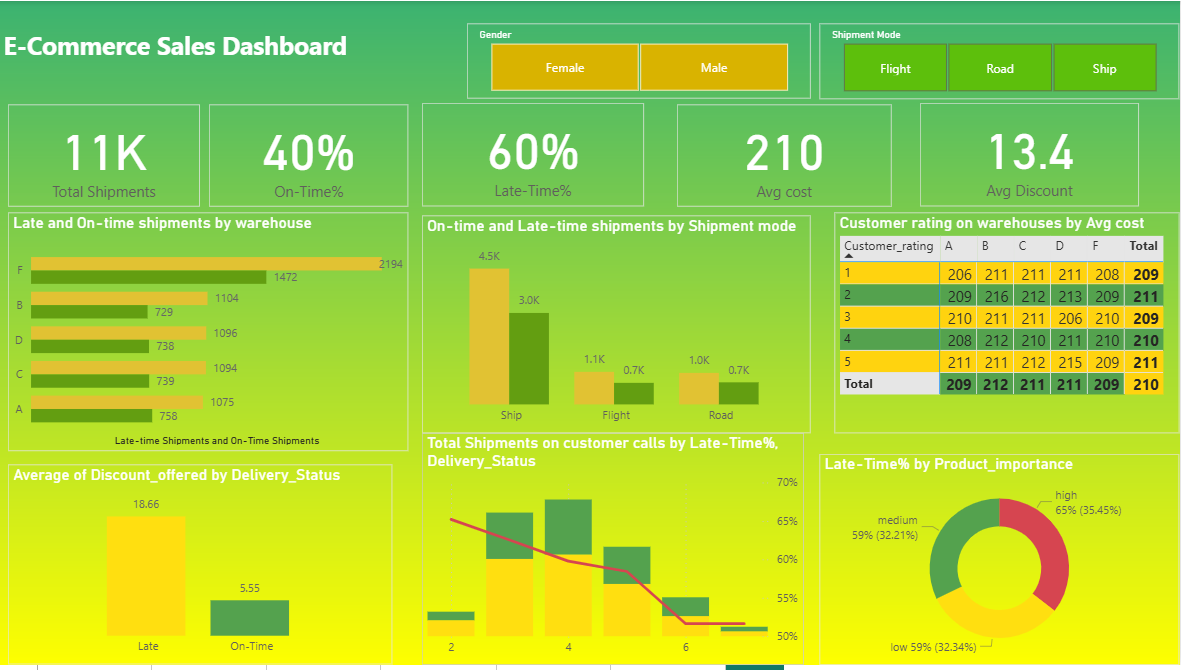

The dashboard page shown, as its layout file describes it:
{"tool":"powerbi","page":{"name":"Page 4","canvas":[1280,720],"ordinal":3},"visuals":[{"type":"card","fields":{"Values":["Train.Total Shipments"]},"box":[9.8,112.2,208.2,110.6],"z":0},{"type":"card","fields":{"Values":["Train.On-Time%"]},"box":[227.7,112.2,216.3,110.6],"z":1000},{"type":"card","fields":{"Values":["Train.Late-Time%"]},"box":[458.7,110.6,240.7,112.2],"z":2000},{"type":"card","fields":{"Values":["Train.Avg cost"]},"box":[735.2,112.2,232.6,110.6],"z":3000},{"type":"card","fields":{"Values":["Train.Avg Discount"]},"box":[998.7,110.6,237.5,112.2],"z":4000},{"type":"clusteredBarChart","title":"Late and On-time shipments by warehouse","fields":{"Category":["Train.Warehouse_block"],"Y":["Train.Late-time Shipments","Train.On-Time Shipments"]},"box":[9.8,229.3,434.3,258.6],"z":5000},{"type":"donutChart","fields":{"Category":["Train.Product_importance"],"Y":["Train.Late-Time%"]},"box":[890,491.7,390,228.3],"z":6000},{"type":"clusteredColumnChart","fields":{"Category":["Train.Delivery_Status"],"Y":["Avg(Train.Discount_offered)"]},"box":[10,503.3,416.7,216.7],"z":7000},{"type":"lineStackedColumnComboChart","title":"Total Shipments on customer calls by Late-Time%, Delivery_Status","fields":{"Category":["Train.Customer_care_calls"],"Y":["Train.Total Shipments"],"Series":["Train.Delivery_Status"],"Y2":["Train.Late-Time%"]},"box":[459.2,468.7,413.9,251.3],"z":8000},{"type":"pivotTable","title":"Customer rating on warehouses by Avg cost","fields":{"Columns":["Train.Warehouse_block"],"Rows":["Train.Customer_rating"],"Values":["Train.Avg cost"]},"box":[906,229.3,374.1,239.1],"z":9000},{"type":"slicer","fields":{"Values":["Train.Mode_of_Shipment"]},"box":[890,25,390,81.7],"z":10000},{"type":"slicer","fields":{"Values":["Train.Gender"]},"box":[507.5,24.4,372.5,81.3],"z":11000},{"type":"clusteredColumnChart","title":"On-time and Late-time shipments by Shipment mode","fields":{"Y":["Train.Late-time Shipments","Train.On-Time Shipments"],"Category":["Train.Mode_of_Shipment"]},"box":[458.7,232.6,421.3,235.8],"z":12000},{"type":"textbox","box":[0,24.4,457,57],"z":13000}]}

Visuals, with their boxes in screenshot pixels (x1, y1, x2, y2), scaled from the page's 1280x720 canvas onto the 1181x670 screenshot:
card - Train.Total Shipments: 9, 104, 201, 207
card - Train.On-Time%: 210, 104, 410, 207
card - Train.Late-Time%: 423, 103, 645, 207
card - Train.Avg cost: 678, 104, 893, 207
card - Train.Avg Discount: 921, 103, 1141, 207
"Late and On-time shipments by warehouse" clusteredBarChart: 9, 213, 410, 454
donutChart - Train.Product_importance x Train.Late-Time%: 821, 458, 1180, 669
clusteredColumnChart - Train.Delivery_Status x Avg(Train.Discount_offered): 9, 468, 394, 669
"Total Shipments on customer calls by Late-Time%, Delivery_Status" lineStackedColumnComboChart: 424, 436, 806, 669
"Customer rating on warehouses by Avg cost" pivotTable: 836, 213, 1180, 436
slicer - Train.Mode_of_Shipment: 821, 23, 1180, 99
slicer - Train.Gender: 468, 23, 812, 98
"On-time and Late-time shipments by Shipment mode" clusteredColumnChart: 423, 216, 812, 436
textbox: 0, 23, 422, 76
